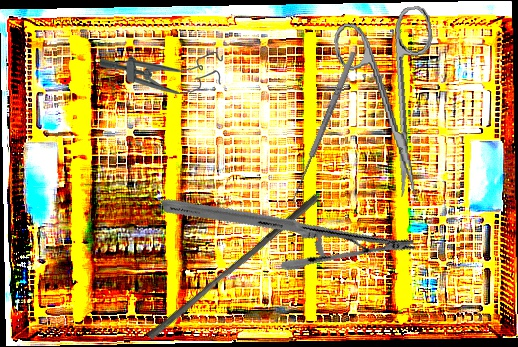Hook Surgical: (288, 50, 363, 207)
Iris Scissors: (330, 4, 455, 204)
Needle Holder: (160, 124, 417, 327)
Pusher: (146, 186, 321, 347)
Speculum: (99, 49, 224, 96)
